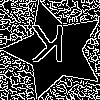K: (30, 25, 66, 71)
